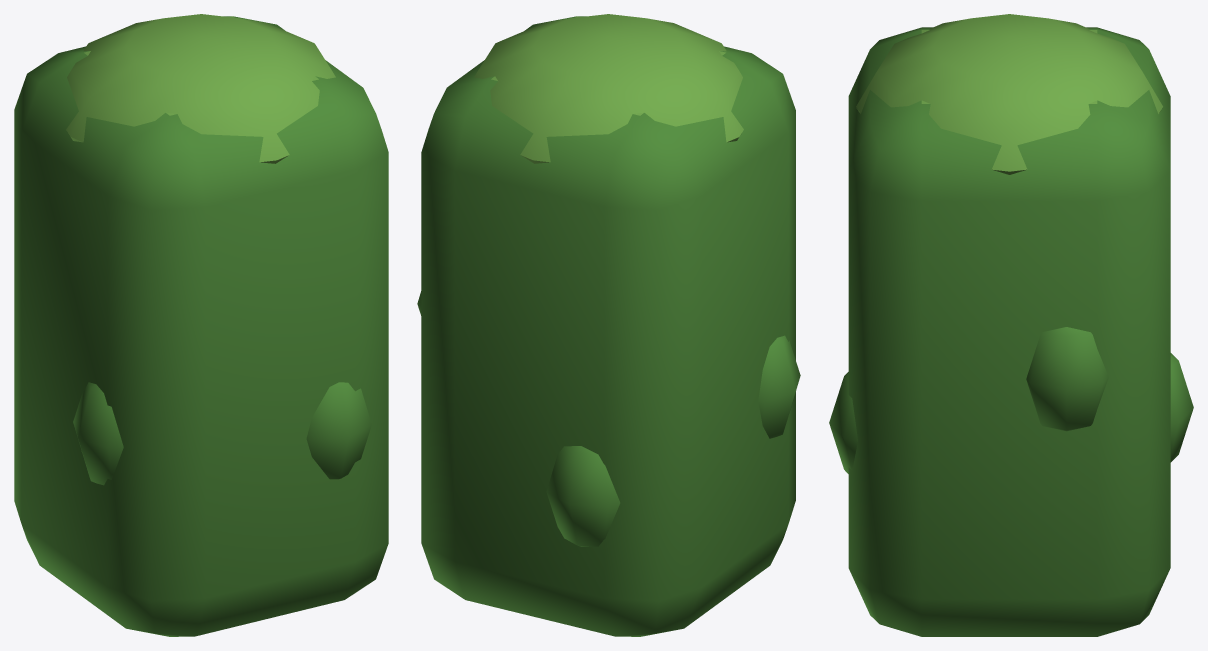
File: fence-hedge-post.glb
3 renders of one model, left to right at view 1: azimuth 30°, elevation 25°; view 2: azimuth 150°, elevation 25°; view 3: azimuth 270°, elevation 25°, orthographic.
Parts seen in each view (by area): view 1: leaves; view 2: leaves; view 3: leaves.
Part boxes in pixels (x1=…): leaves: x1=14, y1=14, x2=388, y2=636; leaves: x1=417, y1=14, x2=800, y2=636; leaves: x1=829, y1=14, x2=1193, y2=636.
Bounding box in the file's own units: 0.5036 × 0.845 × 0.4986.
